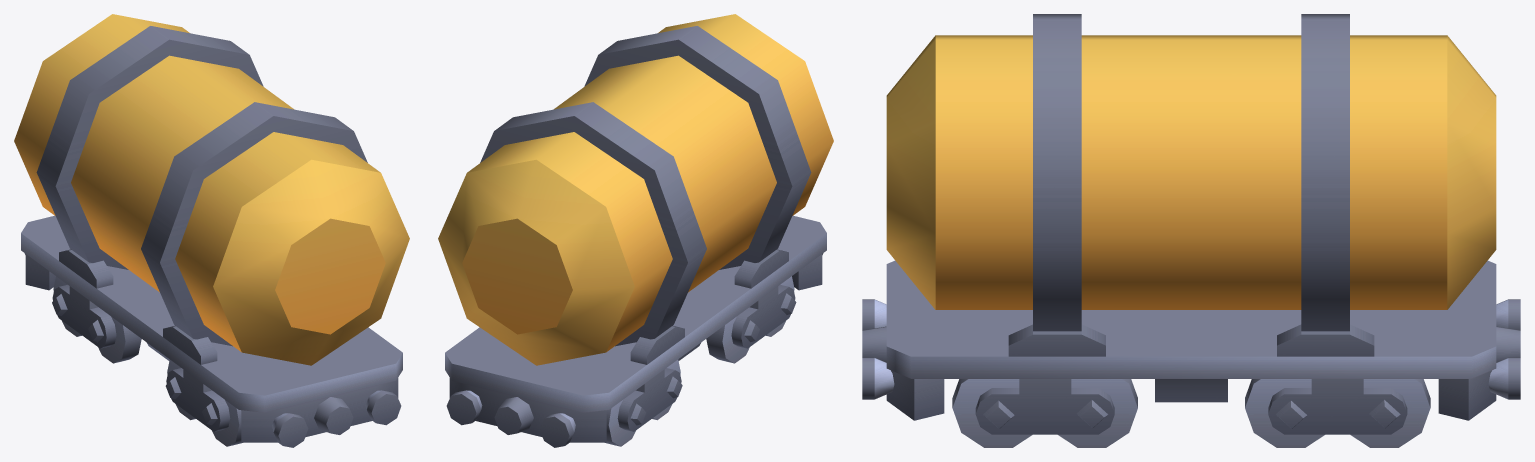
The model's file is kenney-train-train-carriage-tank-large.glb.
3 views of the same model, side by side, from view 1: azimuth 30°, elevation 25°; view 2: azimuth 150°, elevation 25°; view 3: azimuth 270°, elevation 25° (orthographic). The views are drawn at different scales.
Parts seen in each view (by area): view 1: train-carriage-tank-large, wheels-back, wheels-front; view 2: train-carriage-tank-large, wheels-front, wheels-back; view 3: train-carriage-tank-large, wheels-front, wheels-back.
Boxes of the visible parts, <box> form: train-carriage-tank-large: <box>14,14,409,447</box>; wheels-back: <box>52,276,141,363</box>; wheels-front: <box>165,359,242,446</box>; train-carriage-tank-large: <box>438,14,833,447</box>; wheels-front: <box>706,276,796,363</box>; wheels-back: <box>605,359,682,446</box>; train-carriage-tank-large: <box>862,14,1520,420</box>; wheels-front: <box>952,379,1137,447</box>; wheels-back: <box>1245,379,1430,447</box>.
Bounding box in the file's own units: 1.39 × 1.75 × 2.7.
1 material, 1 textured.
